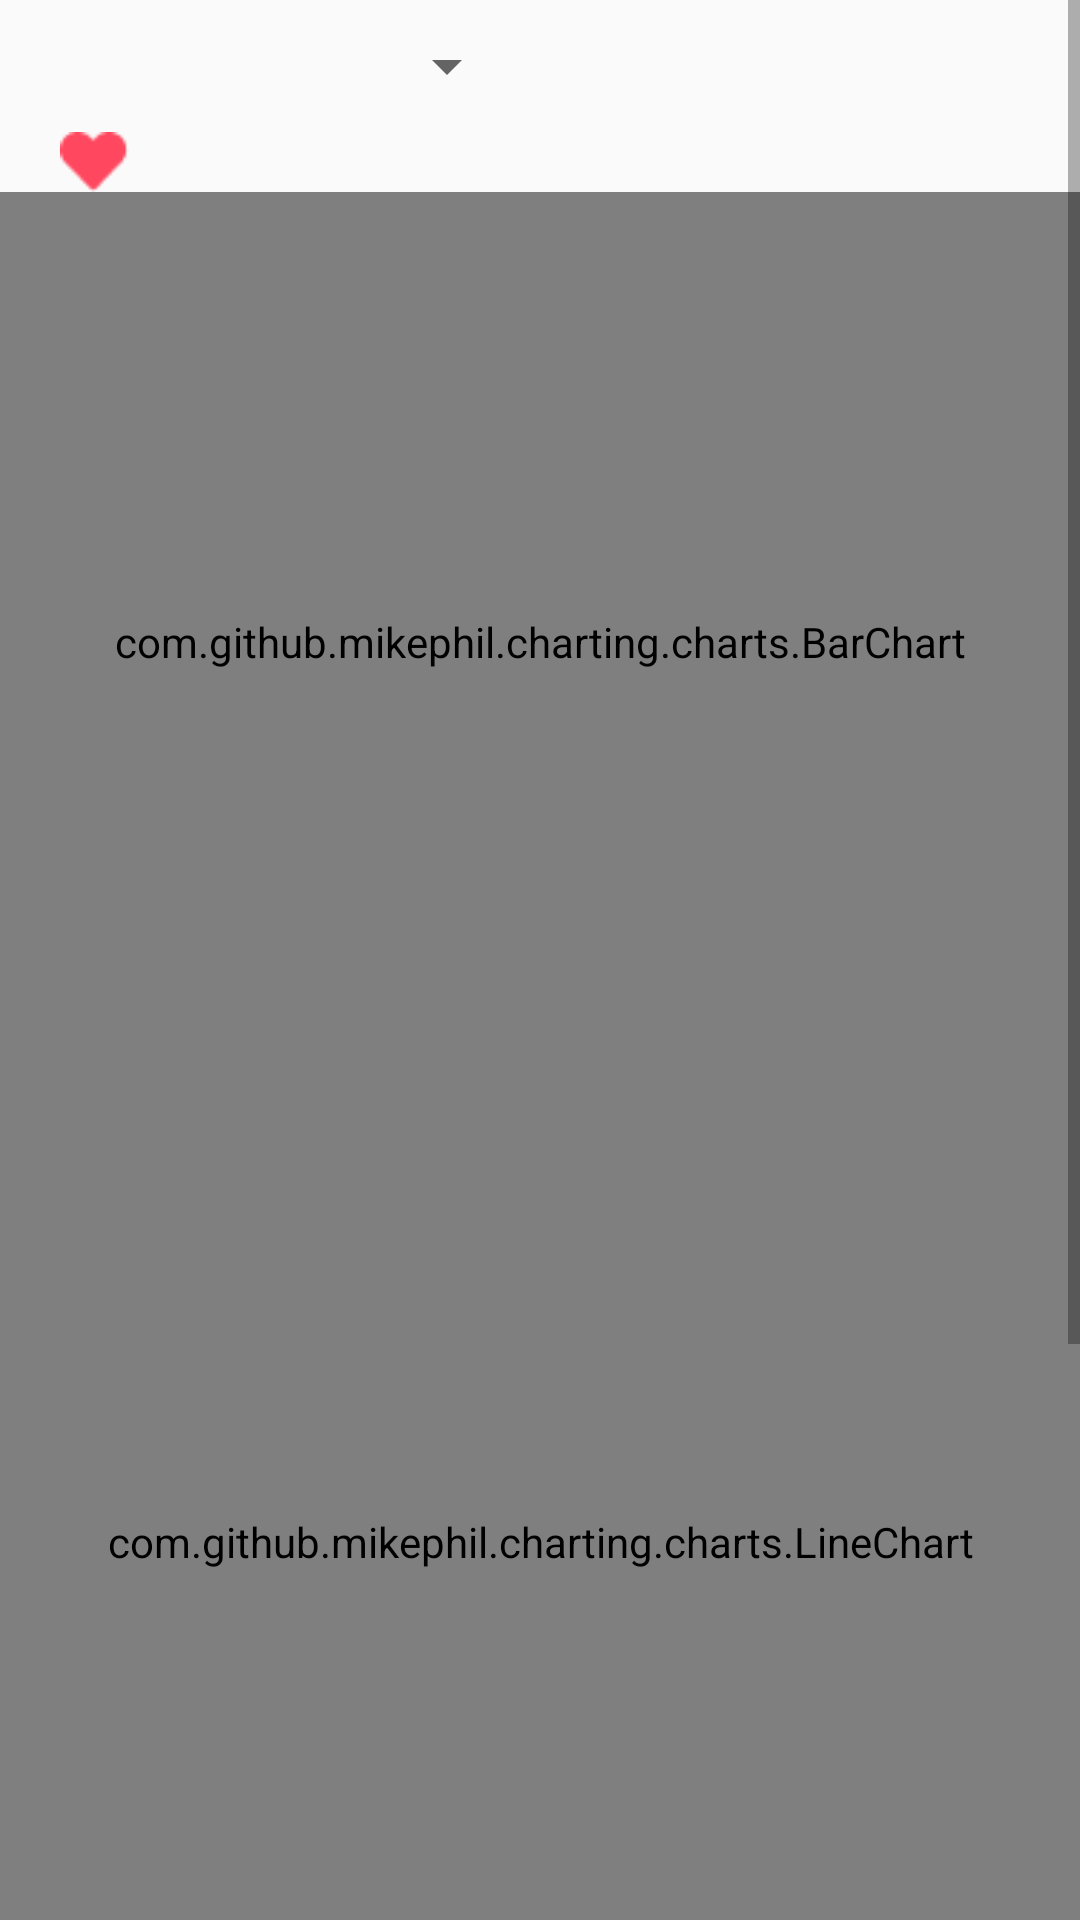

Screen size 1080 x 1920. Icon name, then its box in pixels as (x1,y1,x2,y2):
heart: (60,132,127,192)
